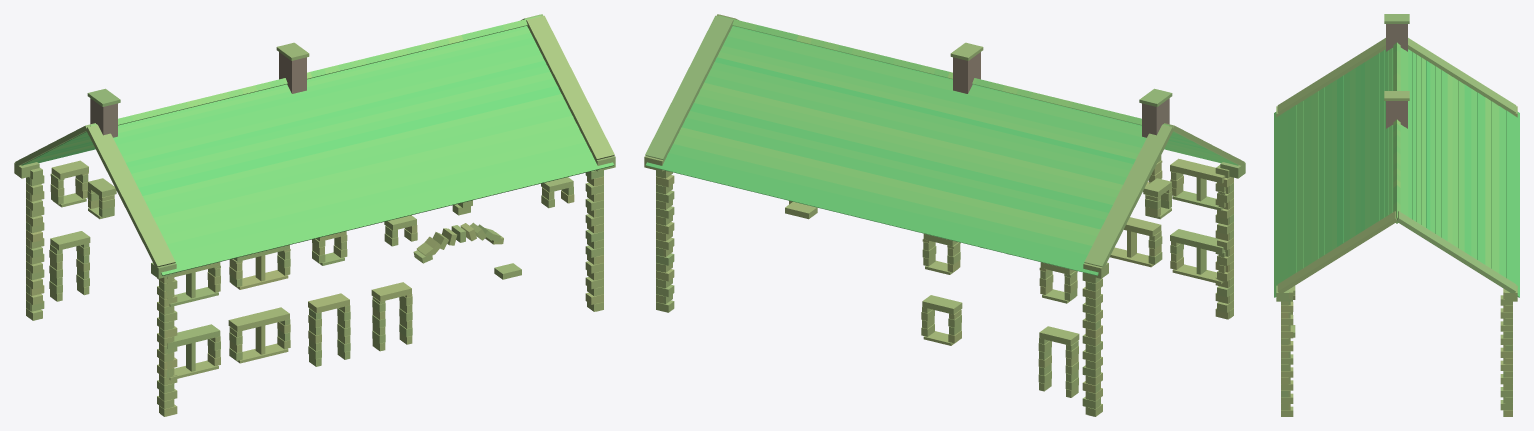
Rendered from SM_Bld_007_Stone.glb.
3 views of the same model, side by side, from view 1: azimuth 30°, elevation 25°; view 2: azimuth 150°, elevation 25°; view 3: azimuth 270°, elevation 25° (orthographic). The views are drawn at different scales.
Visible parts, largest first — view 1: SM_Bld_007_Stone; view 2: SM_Bld_007_Stone; view 3: SM_Bld_007_Stone.
Part boxes in pixels (left/top/right/bottom): SM_Bld_007_Stone: left=14, top=14, right=615, bottom=416; SM_Bld_007_Stone: left=644, top=14, right=1245, bottom=416; SM_Bld_007_Stone: left=1274, top=14, right=1519, bottom=416.
Size of the model in its own units: 18.3 by 10.24 by 10.2.
